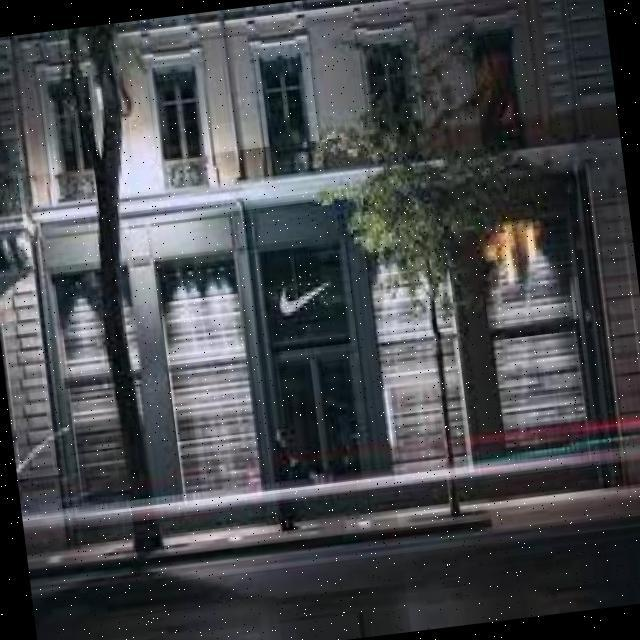Nike: (271, 271, 331, 314)
